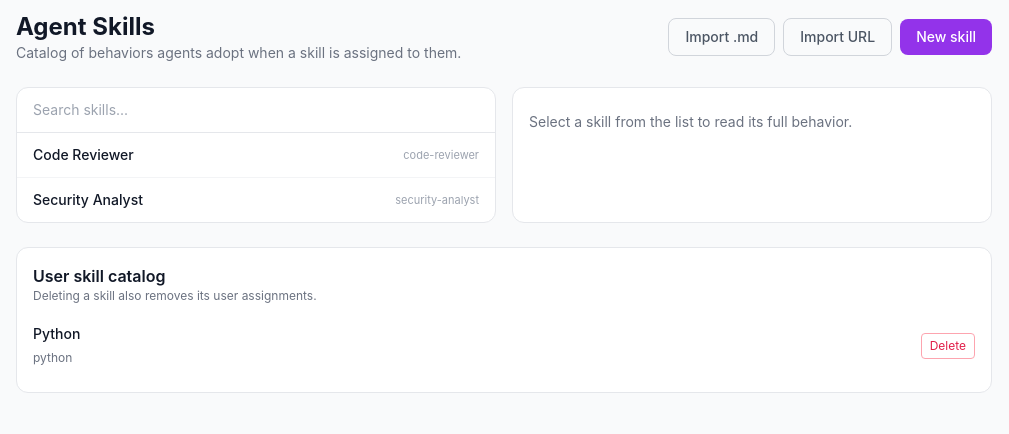
Scenario: AgentSkillsView (issue #610) › deletes a user skill catalog entry through the real catalog endpoint
Click the button with aria-label "Delete Python" at (948, 346), box [921,333,975,359]
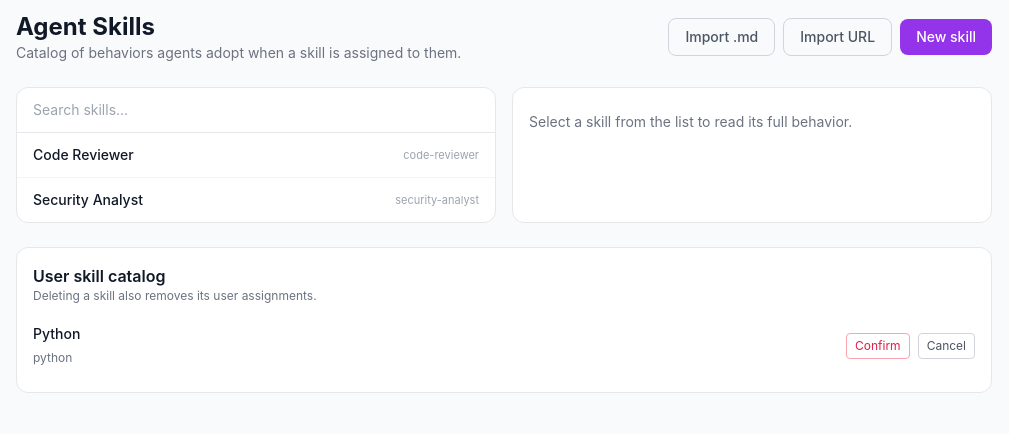
Click the button "Confirm" at (878, 346), box [846,333,910,359]
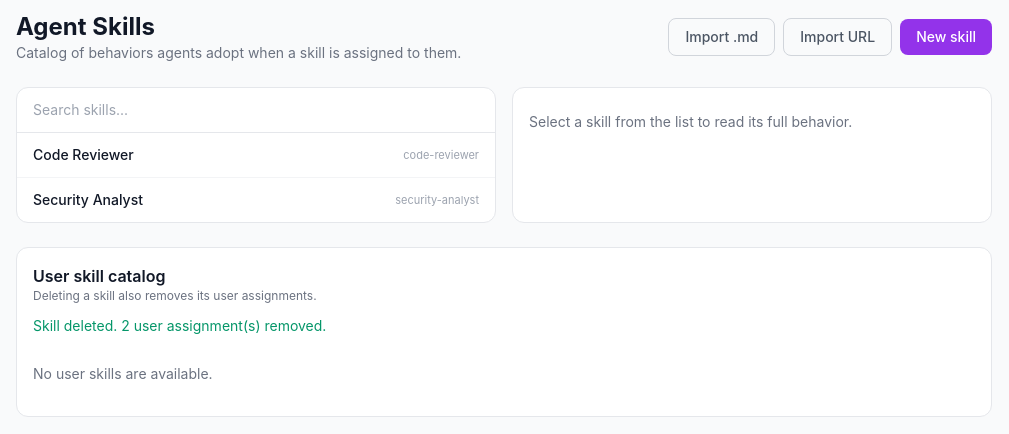
Result: the text "Skill deleted. 2 user assignment(s) removed." is shown at [33,317,326,334]
Result: the text "Python" is gone
